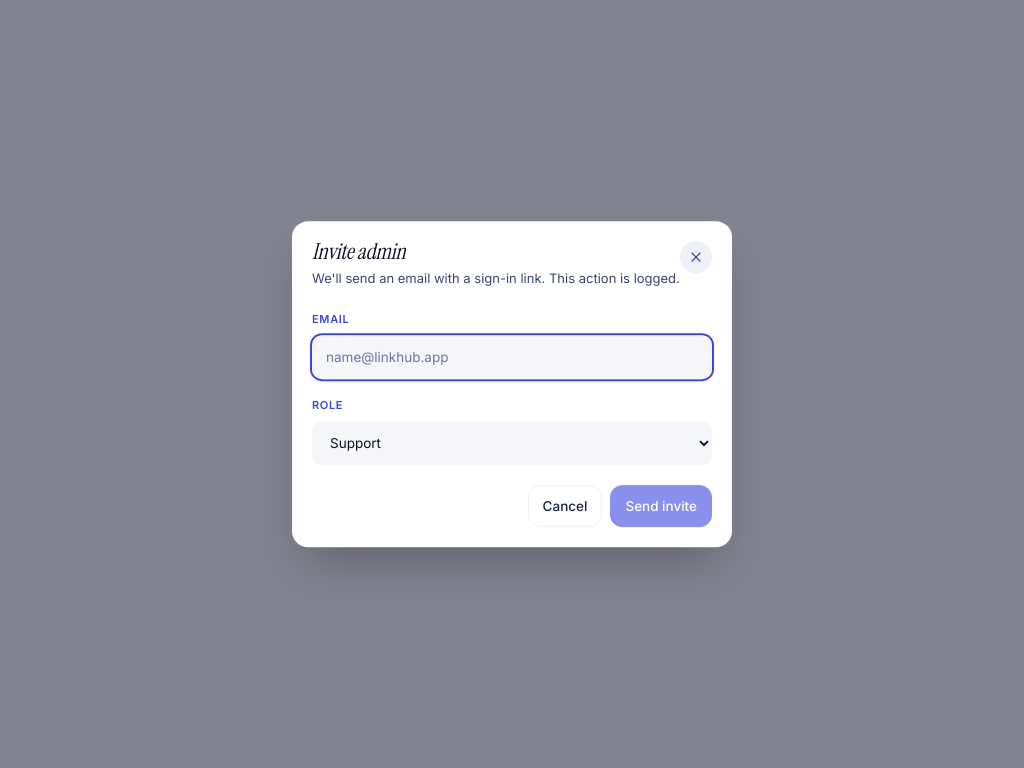
Test: InviteAdminModal › shows an error and keeps the modal open when the invite fails
In the field with placeholder "name@linkhub.app": (512, 357) [312, 335, 712, 379], type "kojo@linkhub.app"
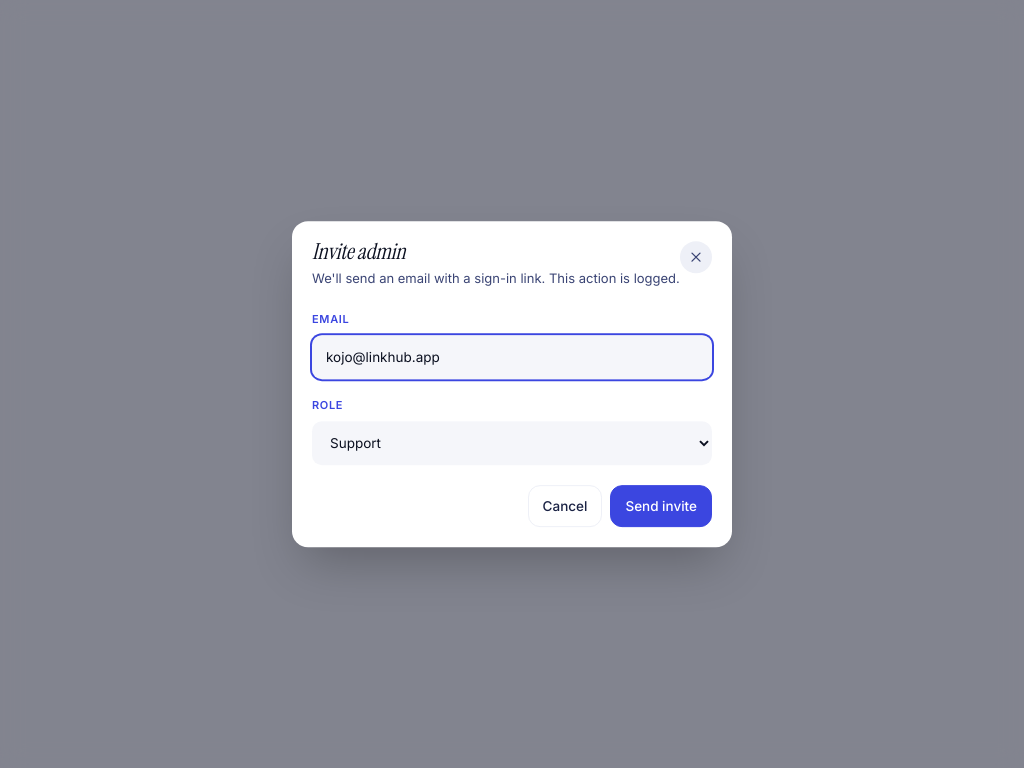
Click the button "Send invite": (661, 506) [610, 485, 712, 527]
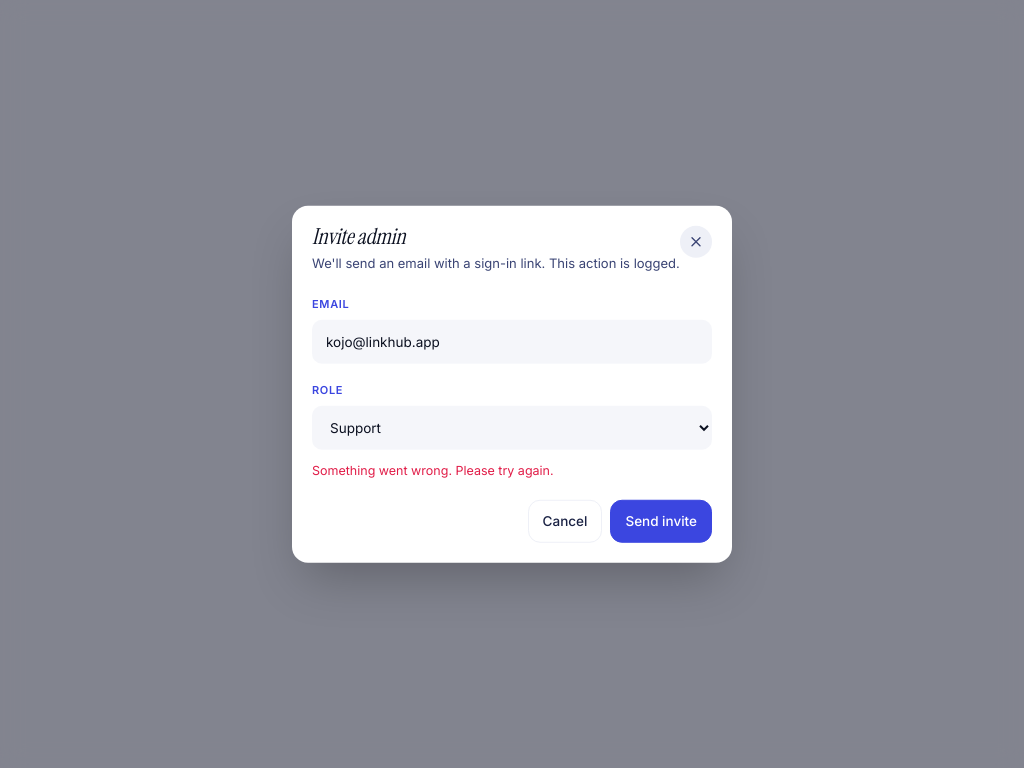
Now the text "Something went wrong. Please try again." is shown, box [312, 462, 554, 477]
